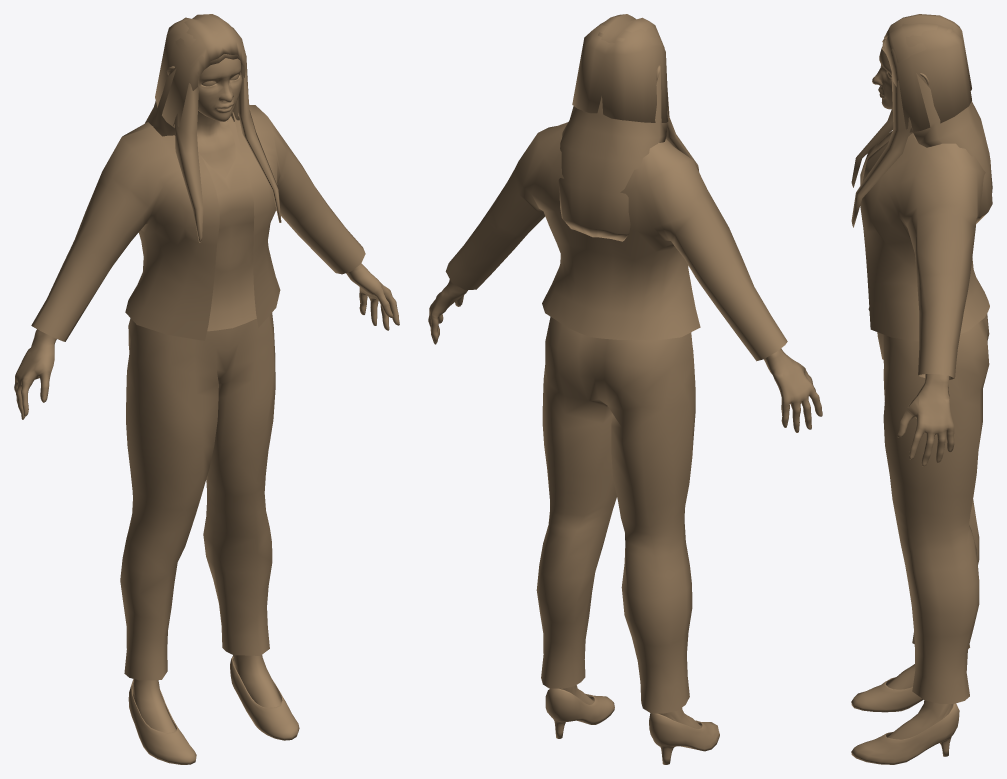
Rendered from (NO RIG) BodyWoman_1.fbx.
The picture shows the model from 3 angles, left to right: view 1: azimuth 30°, elevation 25°; view 2: azimuth 150°, elevation 25°; view 3: azimuth 270°, elevation 25°; orthographic projection. The views are drawn at different scales.
Visible parts, largest first — view 1: Calça, Jaqueta, Pele, Cabelo.002, Blusa, Sapato, Cabelo; view 2: Calça, Jaqueta, Cabelo.002, Cabelo, Pele, Sapato; view 3: Calça, Jaqueta, Cabelo.002, Cabelo, Pele, Sapato, Blusa.
Part boxes in pixels (box(x1,y1,x2,y2)): Calça: box(120, 312, 275, 680); Jaqueta: box(31, 105, 365, 341); Pele: box(14, 58, 399, 732); Cabelo.002: box(145, 14, 281, 242); Blusa: box(201, 116, 256, 331); Sapato: box(128, 656, 299, 764); Cabelo: box(155, 14, 248, 127); Calça: box(536, 316, 695, 713); Jaqueta: box(445, 122, 787, 361); Cabelo.002: box(558, 14, 698, 241); Cabelo: box(572, 18, 668, 122); Pele: box(428, 65, 822, 728); Sapato: box(545, 688, 719, 764); Calça: box(877, 313, 989, 703); Jaqueta: box(860, 131, 989, 379); Cabelo.002: box(851, 14, 992, 227); Cabelo: box(882, 15, 971, 132); Pele: box(872, 47, 954, 739); Sapato: box(851, 677, 959, 764); Blusa: box(862, 141, 888, 310).
Bounding box in the file's own units: 92.42 × 166 × 29.91.
